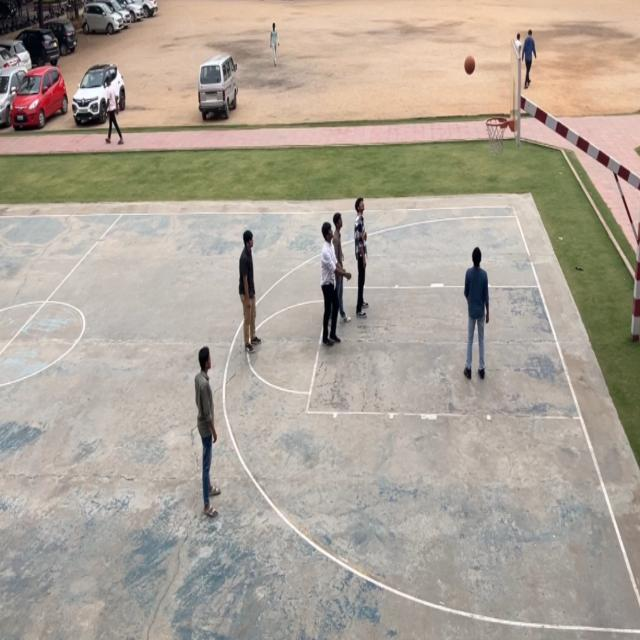basketball: (463, 53, 477, 79)
hoop: (484, 115, 509, 156)
